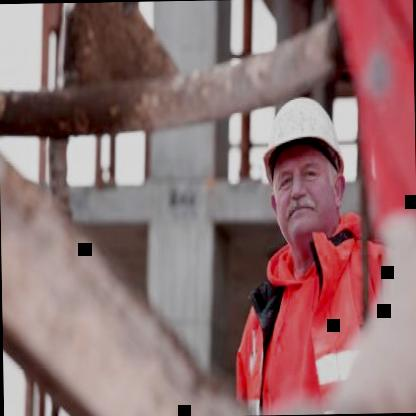helmet: (253, 75, 356, 265)
